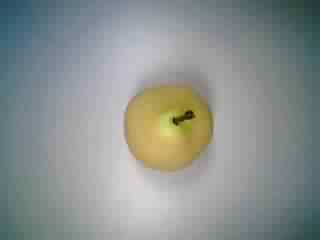pear: (113, 70, 218, 178)
